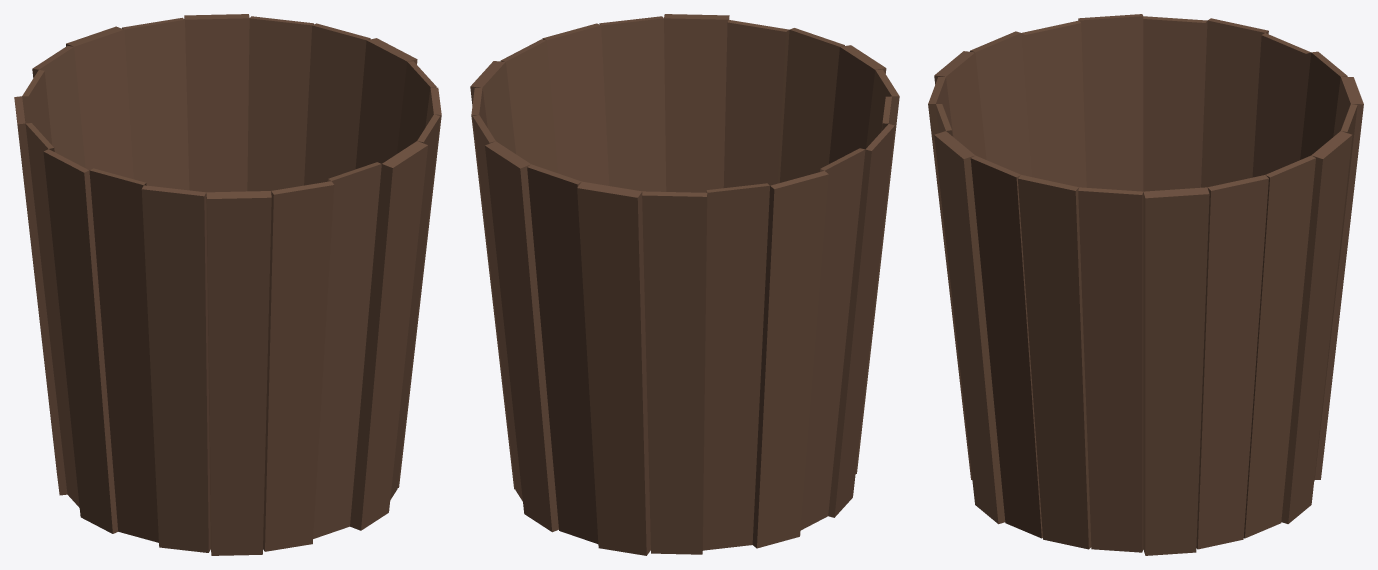
The model's file is Gammal_Soptunna.fbx.
The picture shows the model from 3 angles, left to right: view 1: azimuth 30°, elevation 25°; view 2: azimuth 150°, elevation 25°; view 3: azimuth 270°, elevation 25°; orthographic projection.
Visible parts, largest first — view 1: pCylinder15; view 2: pCylinder15; view 3: pCylinder15.
Part boxes in pixels (x1,y1,x2,y2): pCylinder15: (14,14,441,555); pCylinder15: (470,14,899,555); pCylinder15: (928,14,1363,555).
Bounding box in the file's own units: 2.66 × 2.55 × 2.67.
